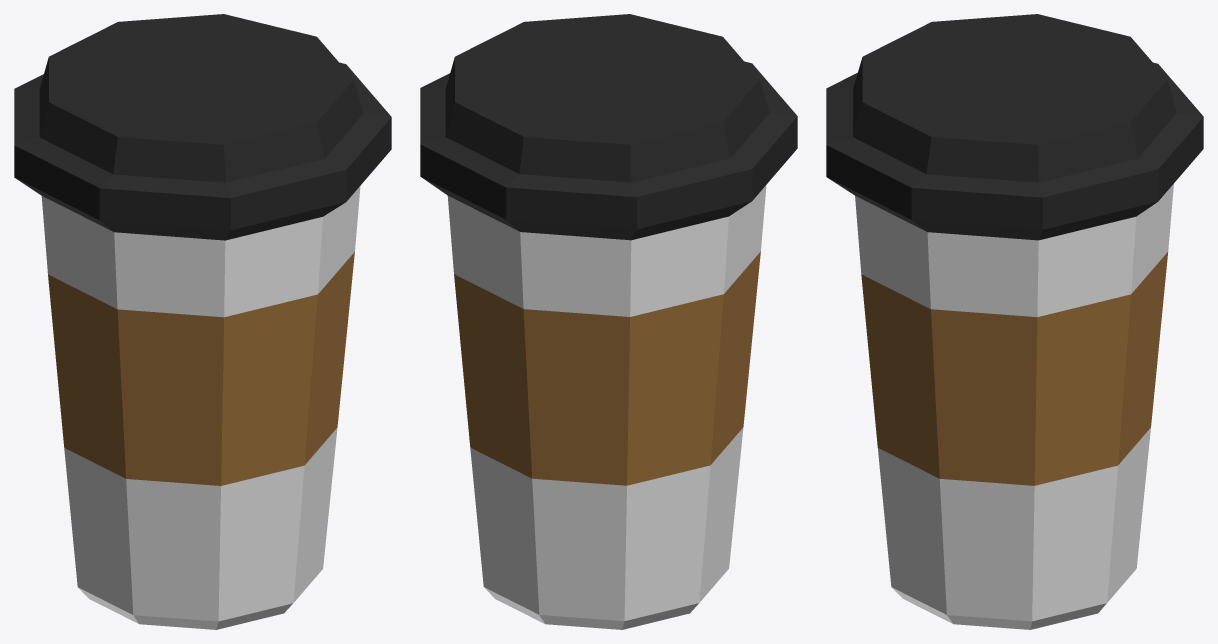
File: drinks-coffee-cup-paper.glb
3 views of the same model, side by side, from view 1: azimuth 30°, elevation 25°; view 2: azimuth 150°, elevation 25°; view 3: azimuth 270°, elevation 25° (orthographic).
Parts seen in each view (by area): view 1: coffee-cup-paper; view 2: coffee-cup-paper; view 3: coffee-cup-paper.
Part boxes in pixels (box(x1,y1,x2,y2)): coffee-cup-paper: box(14, 14, 391, 629); coffee-cup-paper: box(420, 14, 797, 629); coffee-cup-paper: box(826, 14, 1203, 629).
Size of the model in its own units: 0.1045 by 0.1513 by 0.1029.
